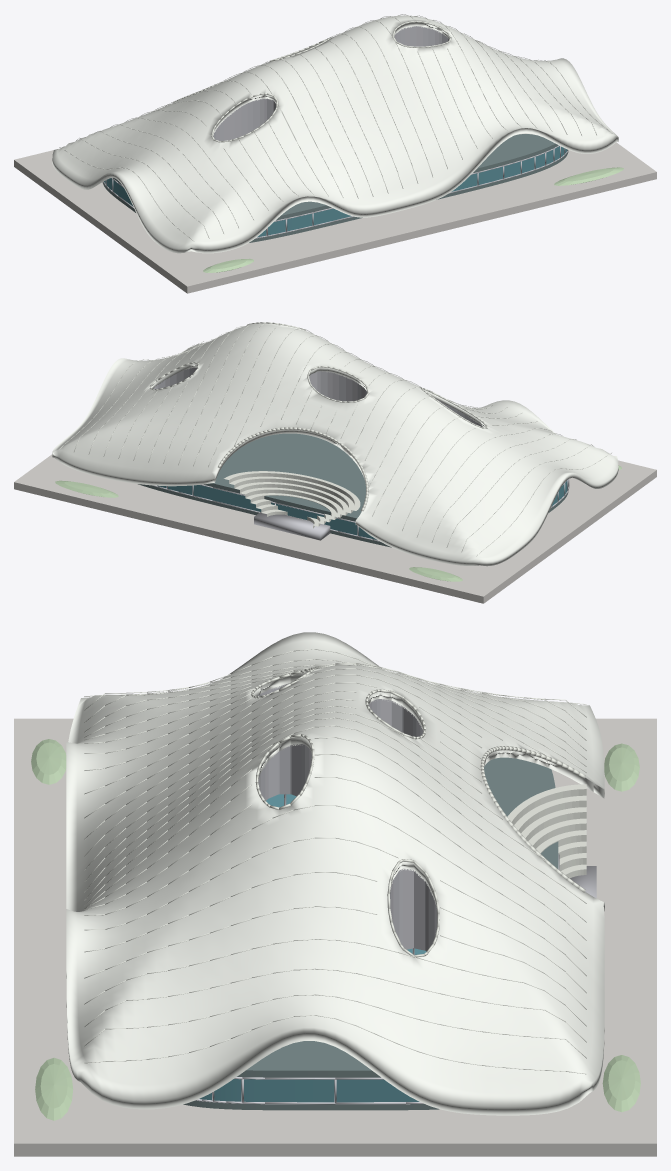
File: dot-P10.glb
3 renders of one model, top to bottom at view 1: azimuth 30°, elevation 25°; view 2: azimuth 150°, elevation 25°; view 3: azimuth 270°, elevation 25°, orthographic. The views are drawn at different scales.
Visible parts, largest first — view 1: pave, low_plinth_glass; view 2: pave, low_plinth_glass; view 3: pave, low_plinth_glass.
Part boxes in pixels (bbox=[...]): pave: bbox=[14, 14, 656, 293]; low_plinth_glass: bbox=[104, 146, 567, 237]; pave: bbox=[14, 322, 656, 603]; low_plinth_glass: bbox=[157, 480, 567, 539]; pave: bbox=[14, 632, 656, 1156]; low_plinth_glass: bbox=[199, 794, 426, 1102].
Bounding box in the file's own units: 6.66 × 1.91 × 4.25.
2 materials, 2 textured.
